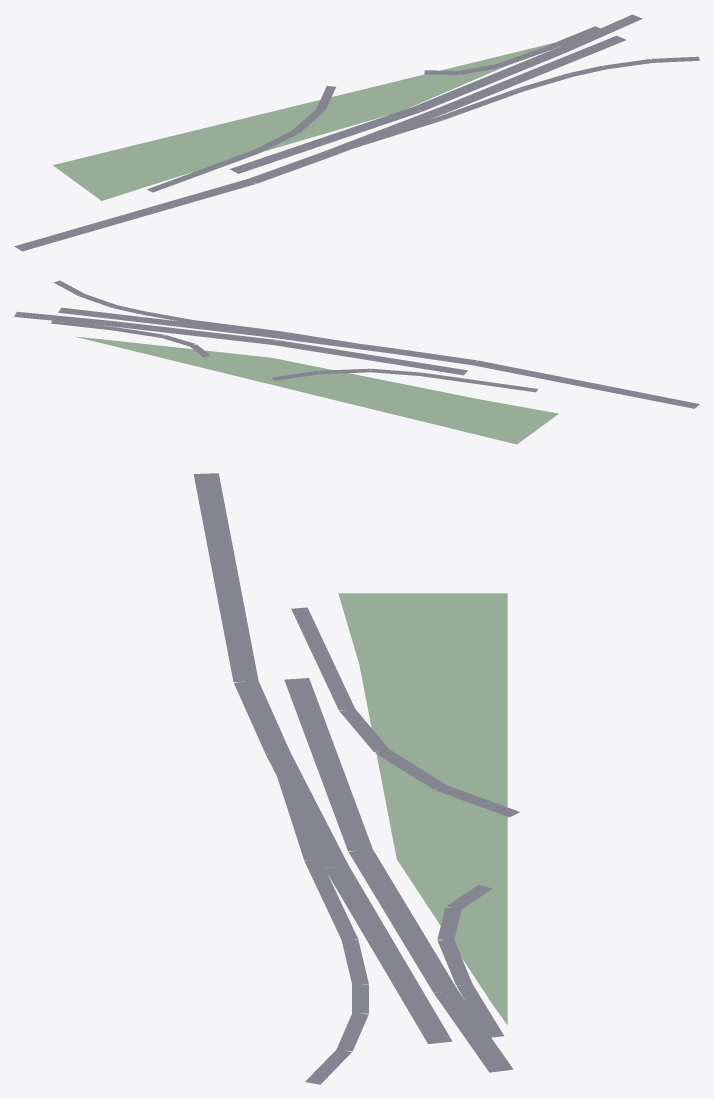
The model's file is 127_129_mid.glb.
3 renders of one model, top to bottom at view 1: azimuth 30°, elevation 25°; view 2: azimuth 150°, elevation 25°; view 3: azimuth 270°, elevation 25°, orthographic. The views are drawn at different scales.
Size of the model in its own units: 591 by 7.84 by 136.
